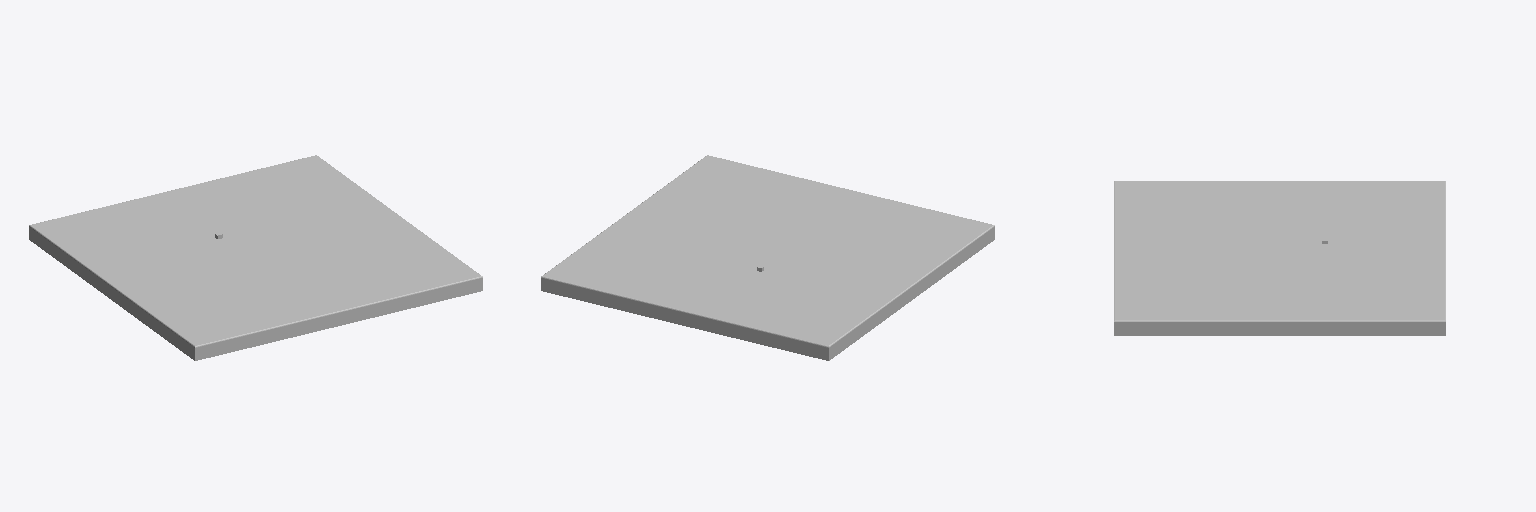
File: board.obj
3 renders of one model, left to right at view 1: azimuth 30°, elevation 25°; view 2: azimuth 150°, elevation 25°; view 3: azimuth 270°, elevation 25°, orthographic.
Parts seen in each view (by area): view 1: Table; view 2: Table; view 3: Table.
Part boxes in pixels (x1,y1,x2,y2): Table: (29, 155, 482, 360); Table: (541, 155, 994, 360); Table: (1114, 181, 1445, 335).
Size of the model in its own units: 119 by 7.25 by 119.